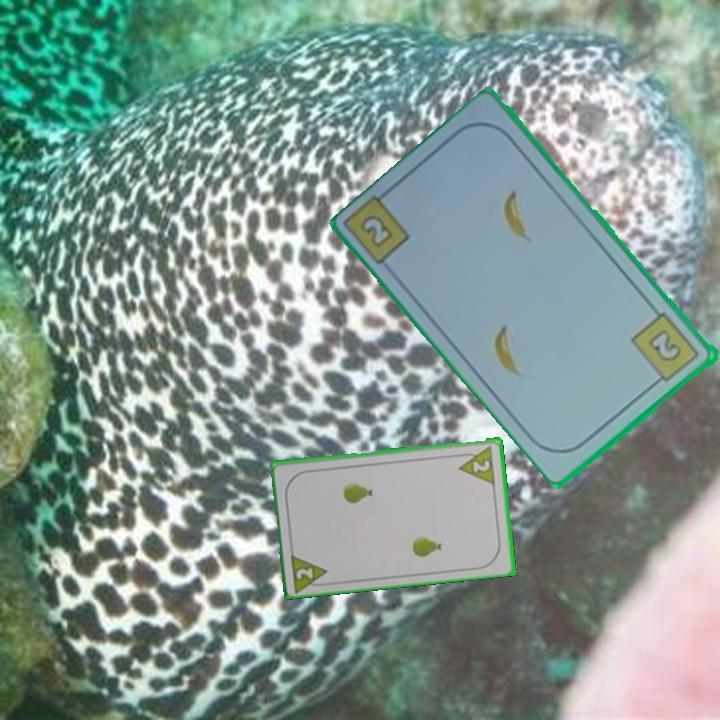2b: (628, 309, 703, 388), (360, 211, 397, 251)
2p: (287, 549, 332, 593), (454, 442, 498, 486)
